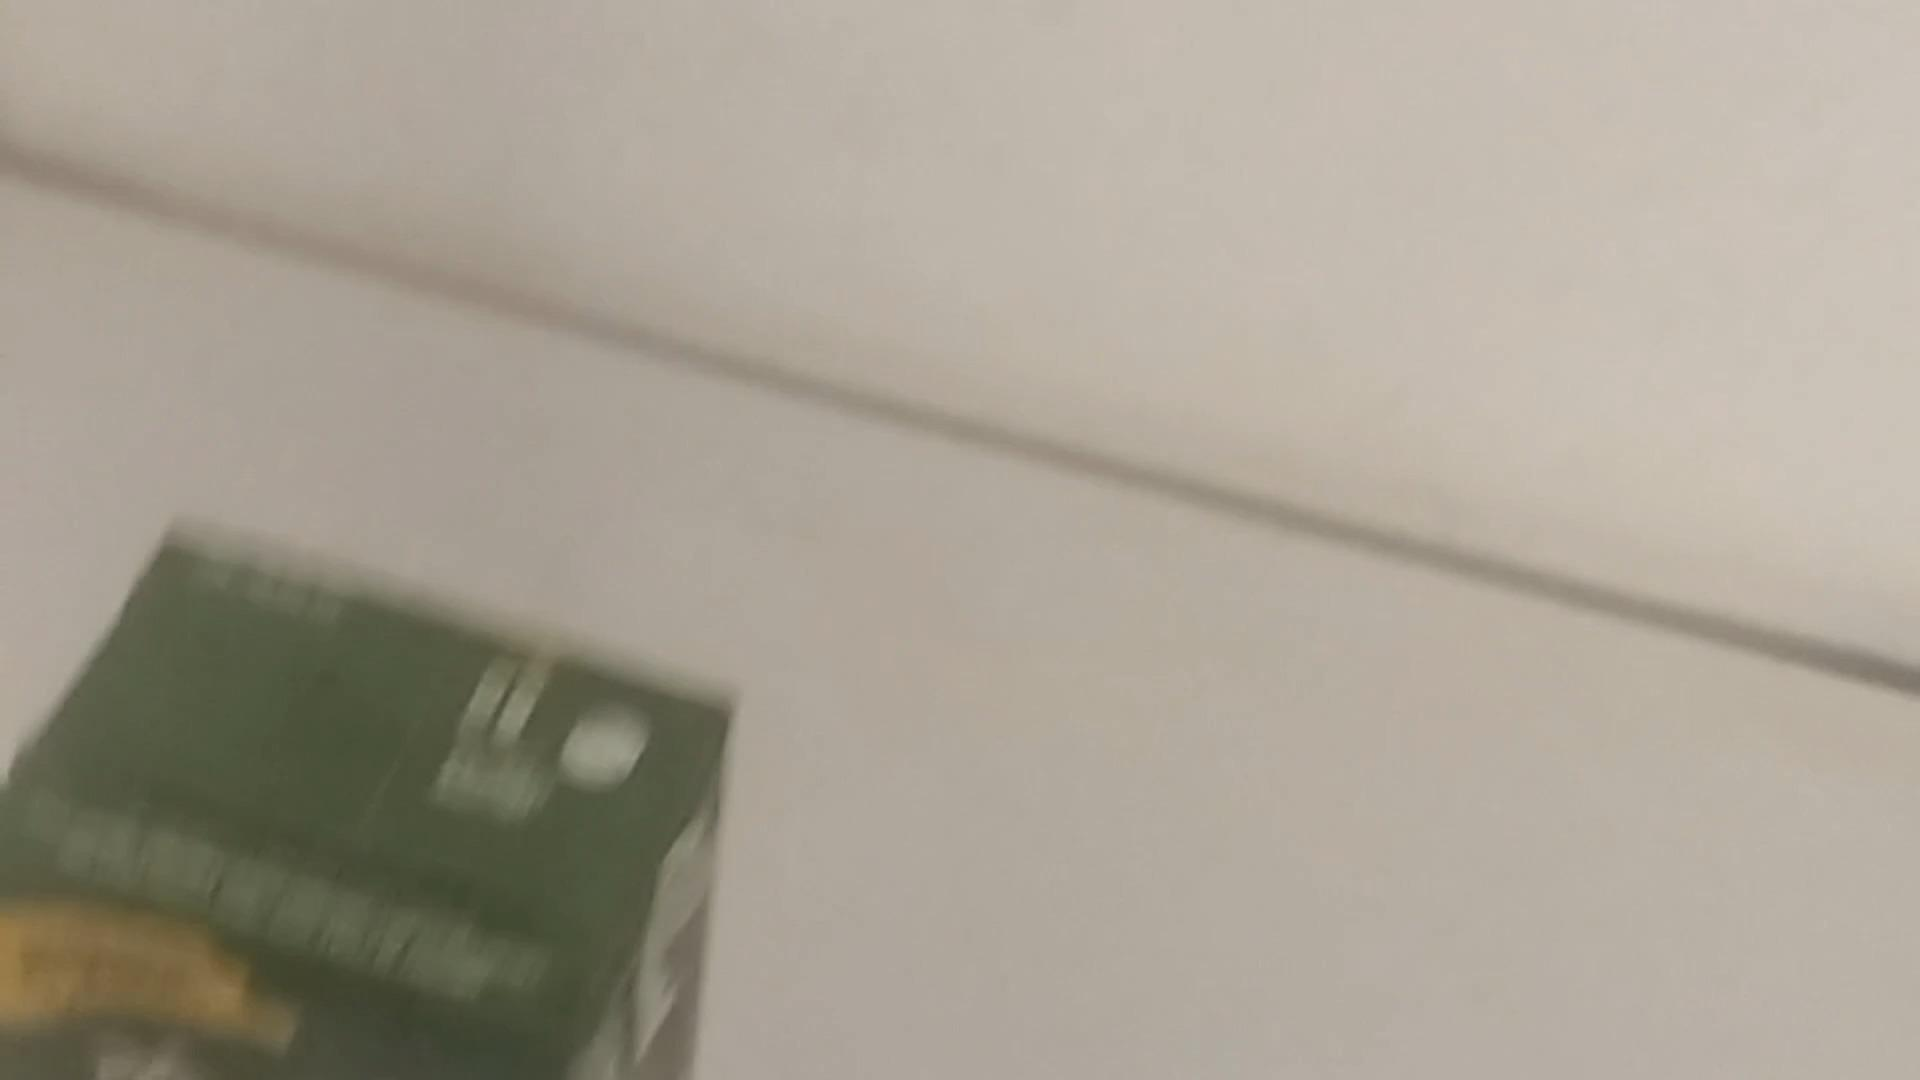coco: (5, 533, 740, 1080)
